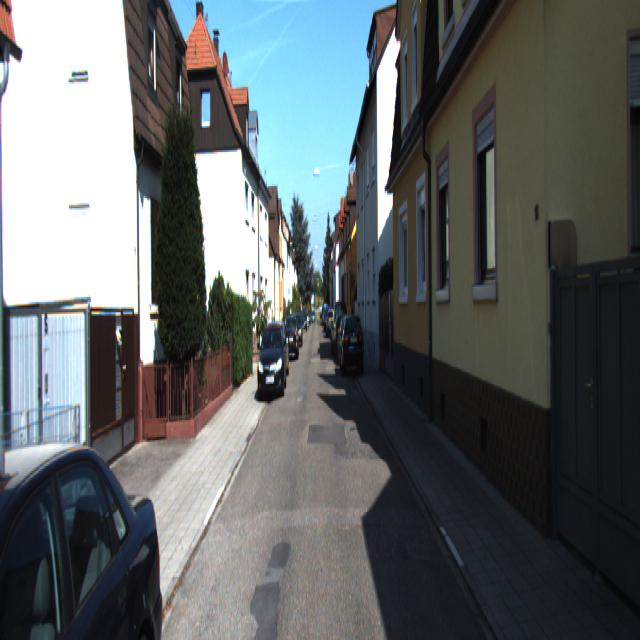Car: (0, 389, 172, 638), (258, 317, 286, 396), (339, 311, 366, 380), (284, 313, 299, 359)
